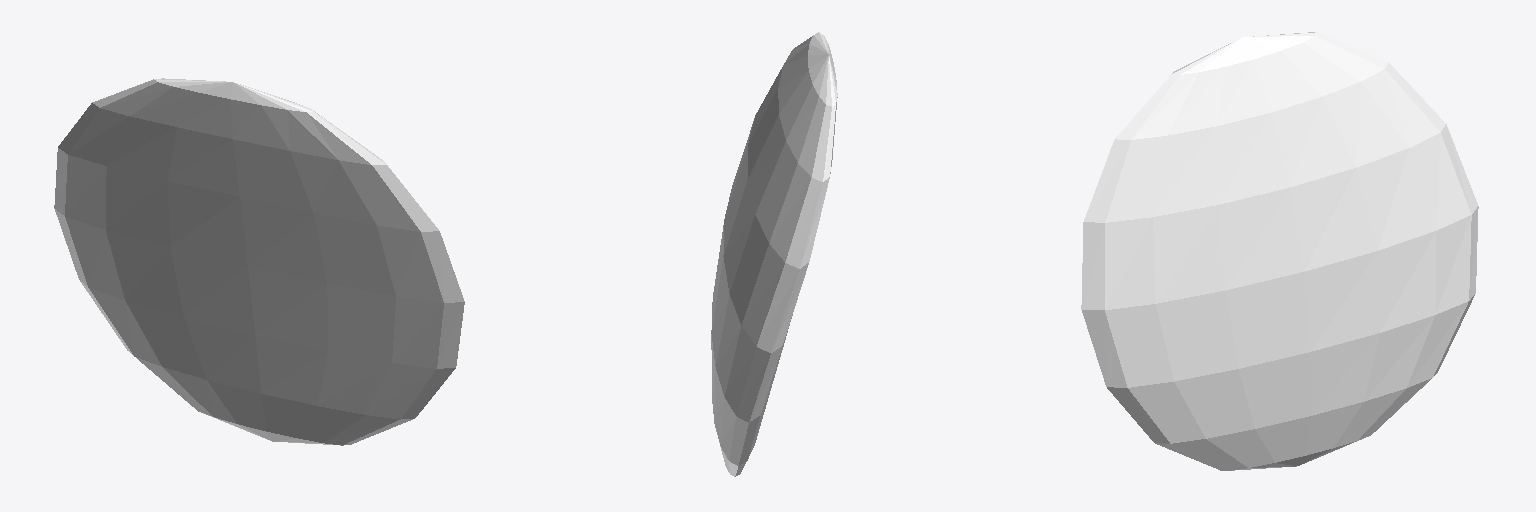
Rendered from occhio destro.obj.
The picture shows the model from 3 angles: view 1: azimuth 30°, elevation 25°; view 2: azimuth 150°, elevation 25°; view 3: azimuth 270°, elevation 25°; orthographic projection.
Parts seen in each view (by area): view 1: occhio.2; view 2: occhio.2; view 3: occhio.2.
Boxes of the visible parts, x1=… form: occhio.2: x1=54, y1=78, x2=464, y2=445; occhio.2: x1=711, y1=32, x2=837, y2=476; occhio.2: x1=1081, y1=32, x2=1478, y2=470.
Size of the model in its own units: 2.17 by 3.57 by 3.25.